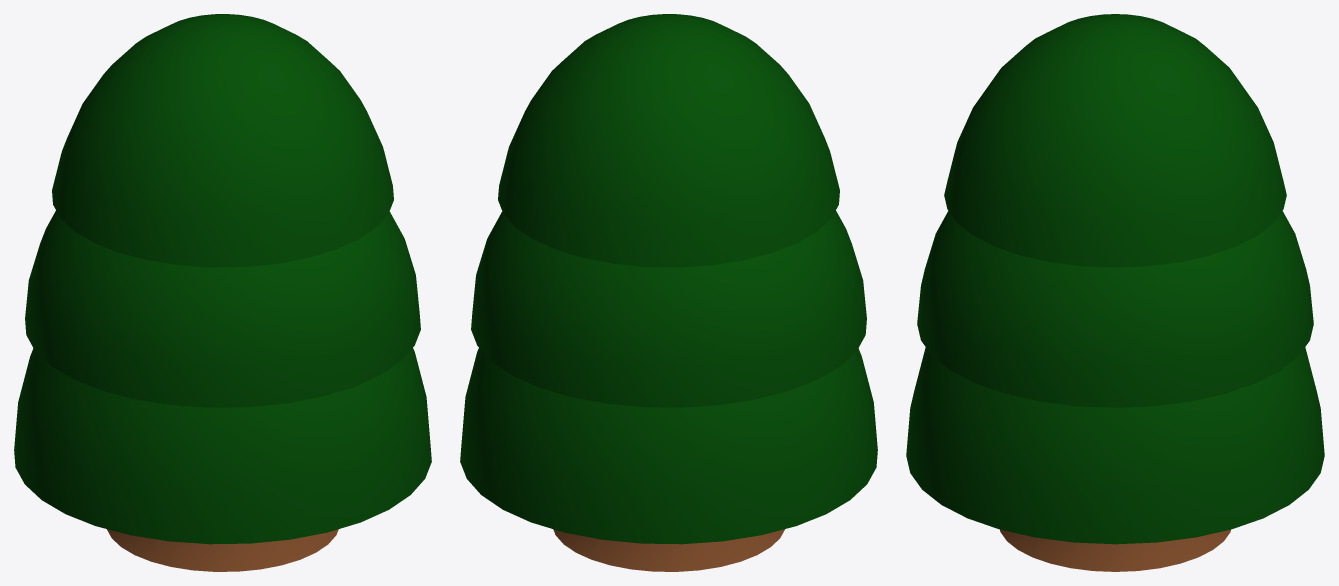
The model's file is tree 2.fbx.
3 renders of one model, left to right at view 1: azimuth 30°, elevation 25°; view 2: azimuth 150°, elevation 25°; view 3: azimuth 270°, elevation 25°, orthographic.
Visible parts, largest first — view 1: Sphere; view 2: Sphere; view 3: Sphere.
Part boxes in pixels (box(x1,y1,x2,y2)): Sphere: box(14, 14, 431, 571); Sphere: box(460, 14, 877, 571); Sphere: box(906, 14, 1324, 571).
Size of the model in its own units: 357 by 467 by 357.
